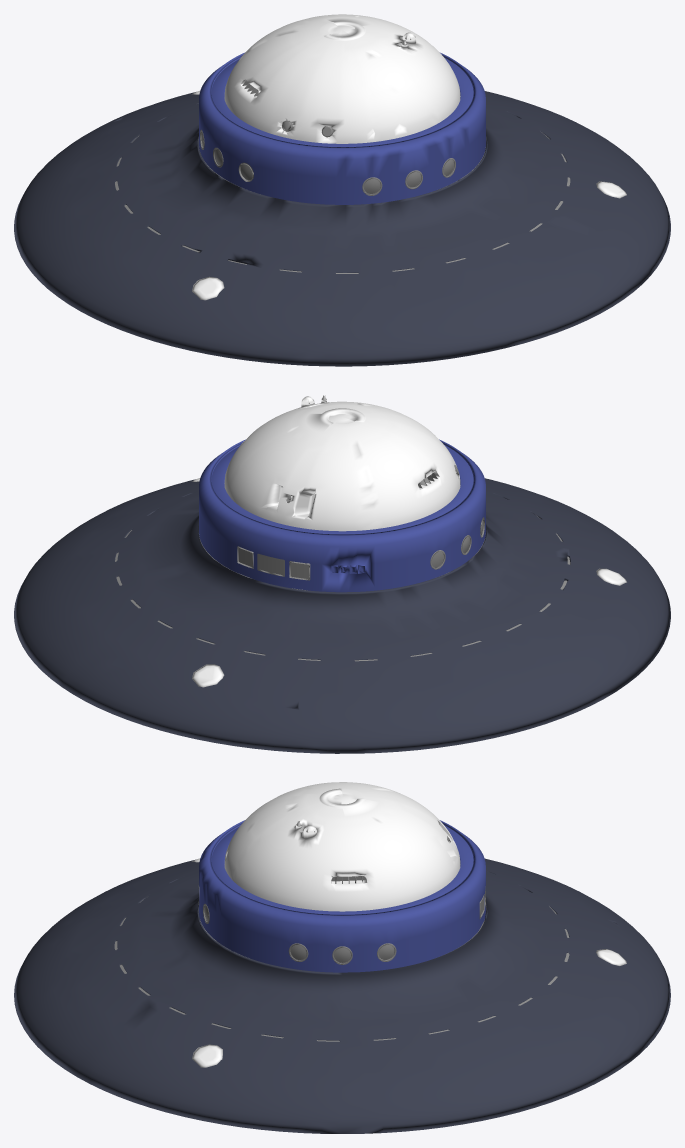
The model's file is ufo.glb.
3 views of the same model, one above another, from view 1: azimuth 30°, elevation 25°; view 2: azimuth 150°, elevation 25°; view 3: azimuth 270°, elevation 25° (orthographic).
Visible parts, largest first — view 1: polySurface449.001; view 2: polySurface449.001; view 3: polySurface449.001.
Part boxes in pixels (<box>): polySurface449.001: <box>14,14,670,366</box>; polySurface449.001: <box>14,395,670,753</box>; polySurface449.001: <box>14,782,670,1133</box>.
Size of the model in its own units: 0.7461 by 0.303 by 0.7458.
